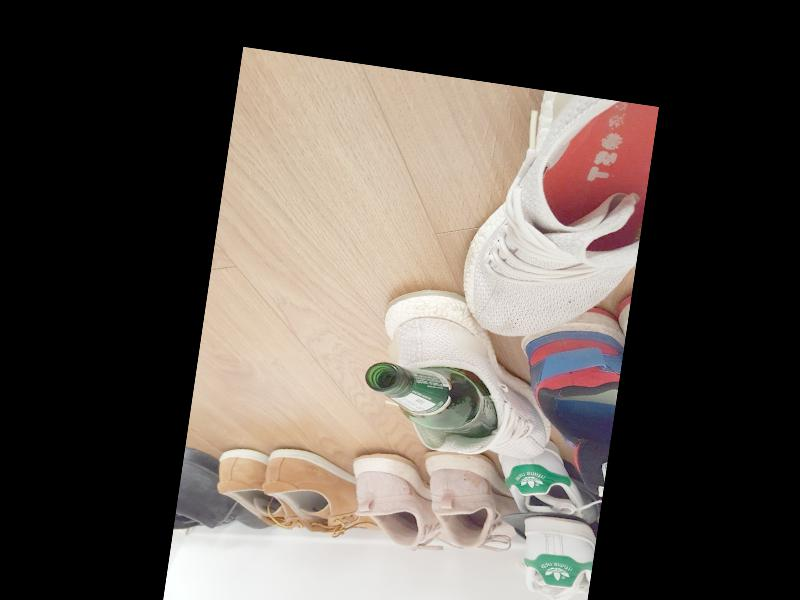Beer: (358, 358, 502, 441)
